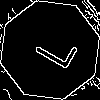L: (25, 25, 79, 72)
